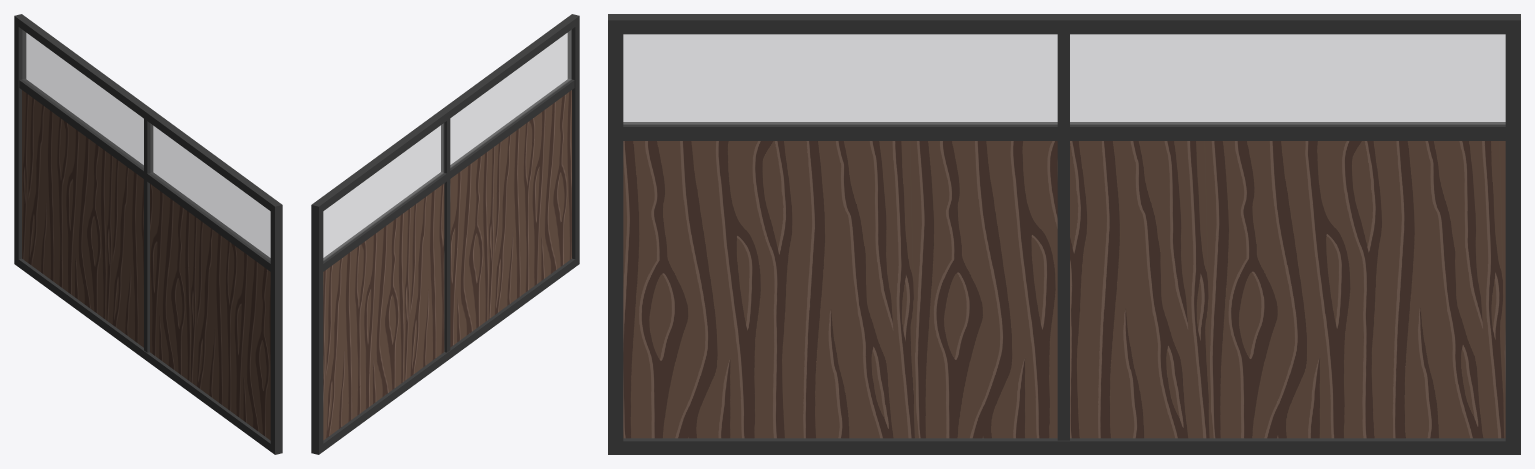
Rendered from Seperator13.fbx.
The picture shows the model from 3 angles, left to right: view 1: azimuth 30°, elevation 25°; view 2: azimuth 150°, elevation 25°; view 3: azimuth 270°, elevation 25°; orthographic projection. The views are drawn at different scales.
Visible parts, largest first — view 1: Seperator13; view 2: Seperator13; view 3: Seperator13.
Part boxes in pixels (x1,y1,x2,y2): Seperator13: (14, 14, 282, 454); Seperator13: (311, 14, 579, 454); Seperator13: (608, 14, 1520, 454).
Bounding box in the file's own units: 0.0501 × 3 × 1.58.
